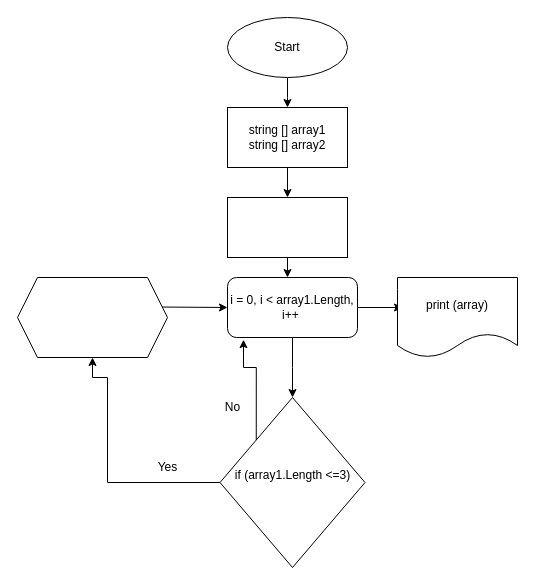
Image size: 535x585. Some labels were removed from this diagram. The centre of each missing label's shape, as x and y in pixels:
"array2[count] = array1[i]; count++" goes at (92,317).
"int count = 0" goes at (287,227).
